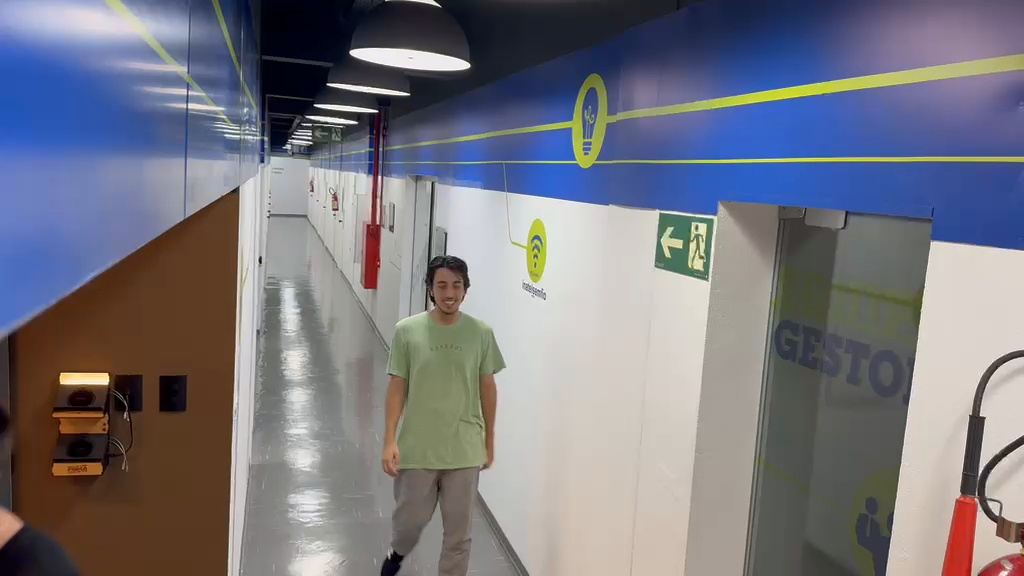person: (380, 255, 506, 572), (0, 505, 82, 576)
